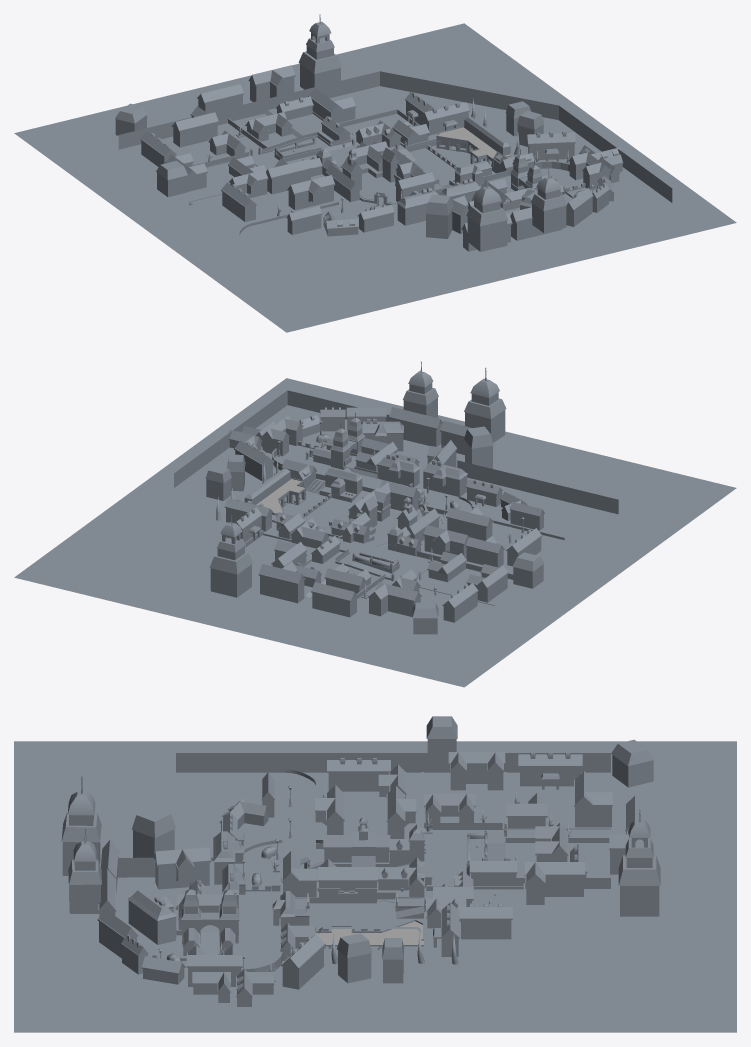
File: gltf__Models__map__Tutorial__modeB__modeB_normalMesh.glb
3 renders of one model, top to bottom at view 1: azimuth 30°, elevation 25°; view 2: azimuth 150°, elevation 25°; view 3: azimuth 270°, elevation 25°, orthographic. The views are drawn at different scales.
Visible parts, largest first — view 1: modeB_normalMesh; view 2: modeB_normalMesh; view 3: modeB_normalMesh.
Part boxes in pixels (x1,y1,x2,y2): modeB_normalMesh: [14, 14, 736, 332]; modeB_normalMesh: [14, 361, 736, 687]; modeB_normalMesh: [14, 716, 736, 1032].
Bounding box in the file's own units: 165 × 29.48 × 173.
6 materials, 5 textured.
